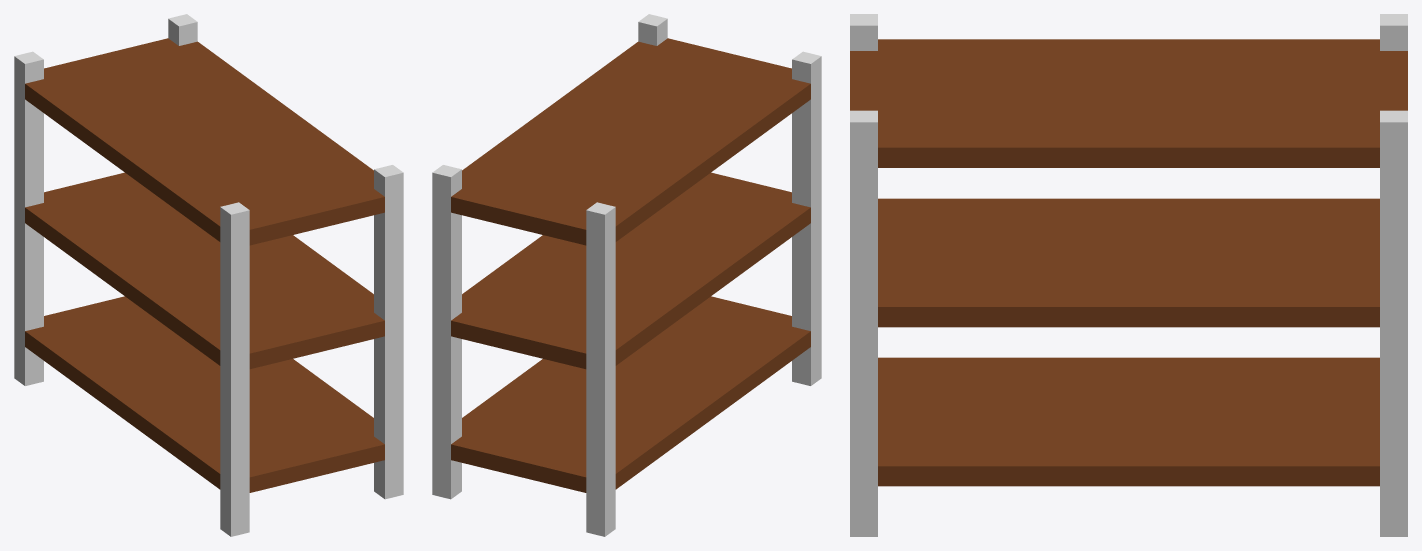
The model's file is Shelf.fbx.
3 views of the same model, side by side, from view 1: azimuth 30°, elevation 25°; view 2: azimuth 150°, elevation 25°; view 3: azimuth 270°, elevation 25° (orthographic). The views are drawn at different scales.
Visible parts, largest first — view 1: Cube.001; view 2: Cube.001; view 3: Cube.001.
Boxes of the visible parts, box(x1,y1,x2,y2) form: Cube.001: box(14, 14, 403, 536); Cube.001: box(432, 14, 821, 536); Cube.001: box(850, 14, 1407, 536).
Size of the model in its own units: 92 by 164 by 200.
